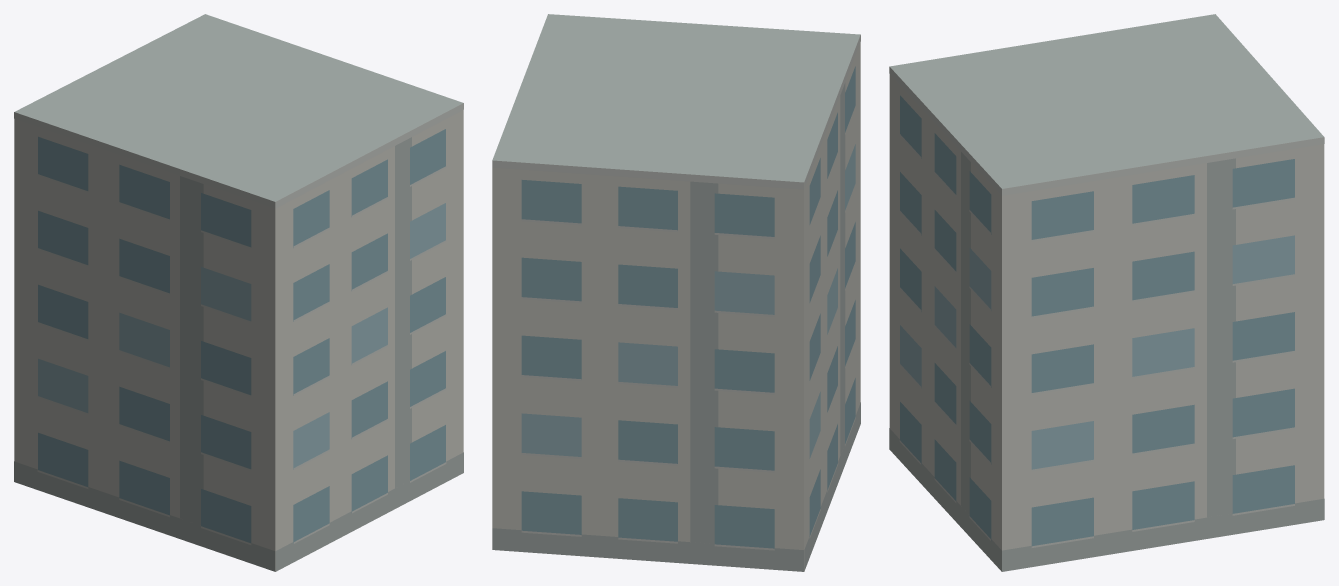
Rendered from survey-upis-32856168.glb.
3 renders of one model, left to right at view 1: azimuth 30°, elevation 25°; view 2: azimuth 150°, elevation 25°; view 3: azimuth 270°, elevation 25°, orthographic. The views are drawn at different scales.
Parts seen in each view (by area): view 1: survey-upis-32856168.tmp; view 2: survey-upis-32856168.tmp; view 3: survey-upis-32856168.tmp.
Part boxes in pixels (x1,y1,x2,y2): survey-upis-32856168.tmp: [14, 14, 463, 571]; survey-upis-32856168.tmp: [492, 14, 860, 571]; survey-upis-32856168.tmp: [889, 14, 1324, 571].
Bounding box in the file's own units: 13.04 × 13.3 × 13.7.
